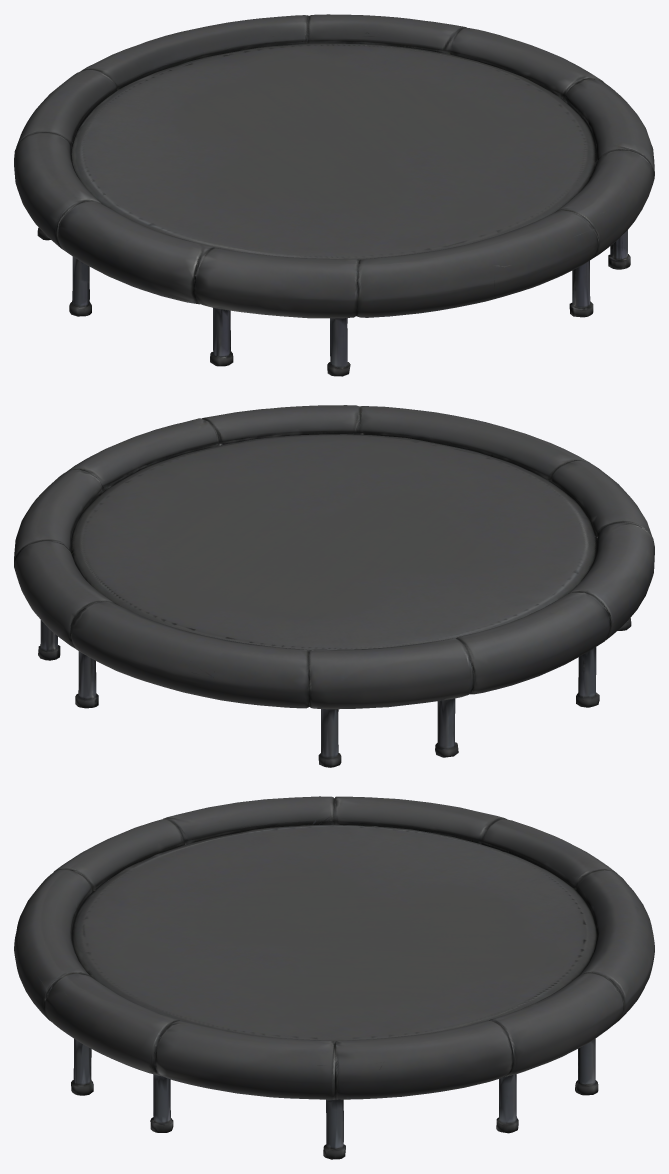
Rendered from A_cartoon_style_3D_mo_0517180516_texture.fbx.
3 views of the same model, one above another, from view 1: azimuth 30°, elevation 25°; view 2: azimuth 150°, elevation 25°; view 3: azimuth 270°, elevation 25° (orthographic).
Visible parts, largest first — view 1: Mesh1; view 2: Mesh1; view 3: Mesh1.
Part boxes in pixels (left/top/right/bottom): Mesh1: left=14, top=14, right=654, bottom=376; Mesh1: left=14, top=405, right=654, bottom=767; Mesh1: left=14, top=796, right=654, bottom=1159.
Size of the model in its own units: 200 by 38.08 by 200.
1 material, 1 textured.
